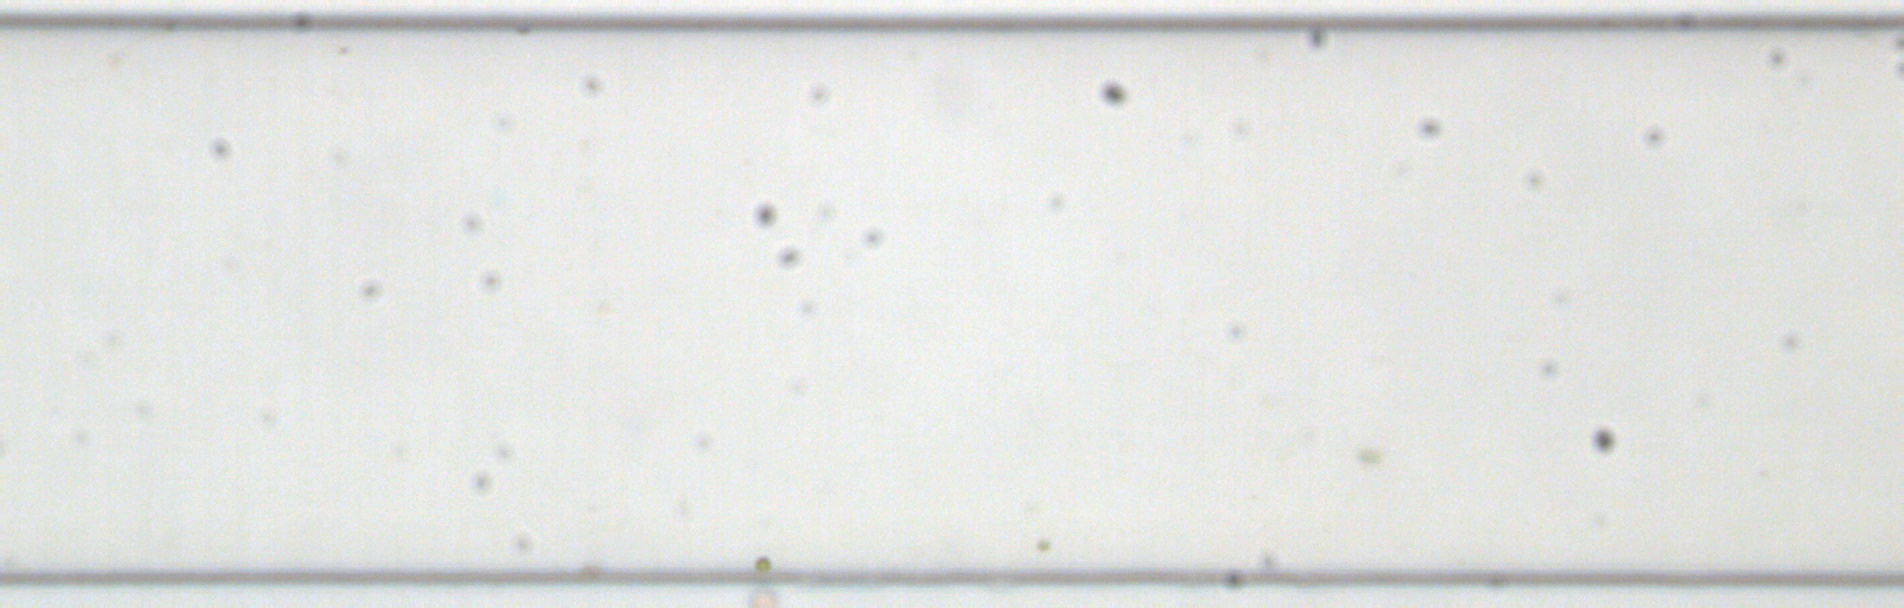Chlorella: (1356, 444, 1378, 467), (1033, 536, 1052, 555), (753, 553, 770, 572)
